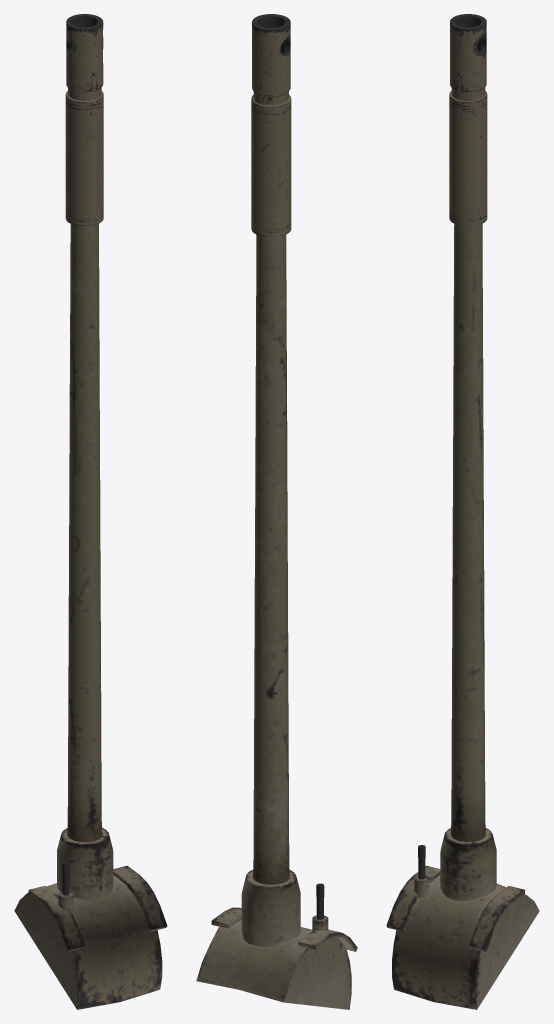
File: Gun_05.glb
The picture shows the model from 3 angles, left to right: view 1: azimuth 30°, elevation 25°; view 2: azimuth 150°, elevation 25°; view 3: azimuth 330°, elevation 25°; orthographic projection. The views are drawn at different scales.
Parts seen in each view (by area): view 1: set_0_group_0; view 2: set_0_group_0; view 3: set_0_group_0.
Part boxes in pixels (left/top/right/bottom): set_0_group_0: left=14, top=14, right=167, bottom=1009; set_0_group_0: left=196, top=14, right=357, bottom=1009; set_0_group_0: left=386, top=14, right=539, bottom=1009.
Bounding box in the file's own units: 0.5991 × 5.53 × 0.7209.
Materials: 1 (1 with a texture image).
